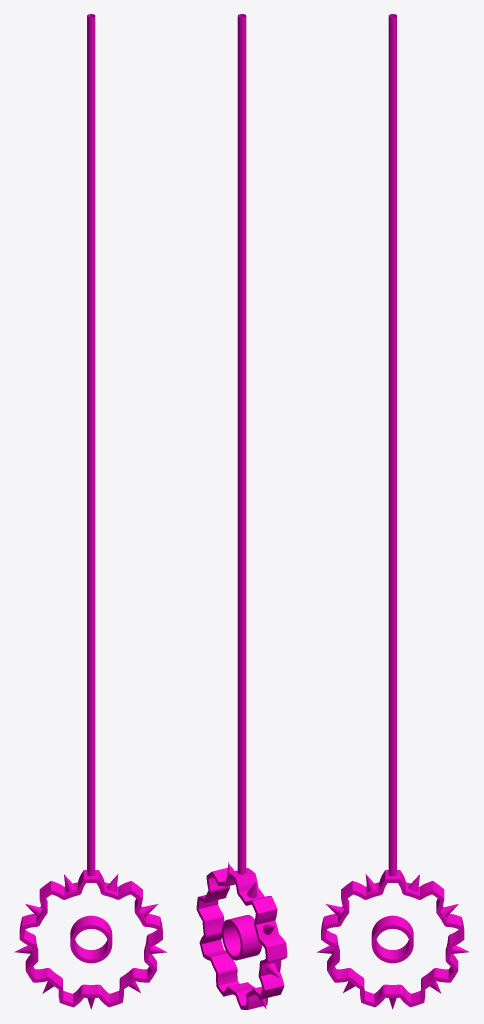
File: cutter5_gear.fbx
3 views of the same model, side by side, from view 1: azimuth 90°, elevation 25°; view 2: azimuth 210°, elevation 25°; view 3: azimuth 270°, elevation 25° (orthographic).
Parts seen in each view (by area): view 1: Cutter5_Gear; view 2: Cutter5_Gear; view 3: Cutter5_Gear.
Part boxes in pixels (box(x1,y1,x2,y2)): Cutter5_Gear: box(14, 14, 166, 1009); Cutter5_Gear: box(196, 14, 287, 1009); Cutter5_Gear: box(317, 14, 469, 1009).
Size of the model in its own units: 16.87 by 820 by 115.
